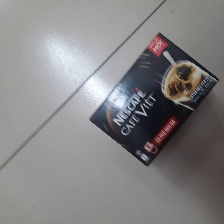CF Viet: (87, 32, 221, 170)
